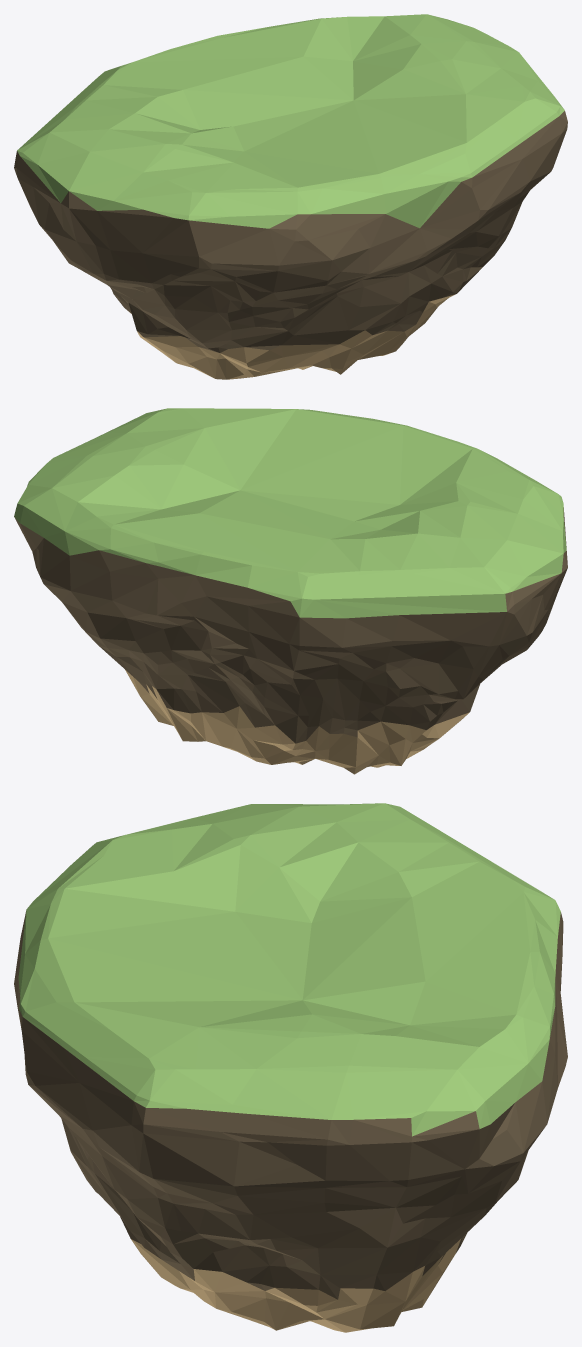
Rendered from floating island.fbx.
3 renders of one model, top to bottom at view 1: azimuth 30°, elevation 25°; view 2: azimuth 150°, elevation 25°; view 3: azimuth 270°, elevation 25°, orthographic. The views are drawn at different scales.
Visible parts, largest first — view 1: polySurface1; view 2: polySurface1; view 3: polySurface1.
Boxes of the visible parts, x1,y1,x2,y2 form: polySurface1: (14,14,567,379); polySurface1: (14,408,567,774); polySurface1: (14,803,567,1332).
Size of the model in its own units: 13.32 by 6.75 by 9.75.
